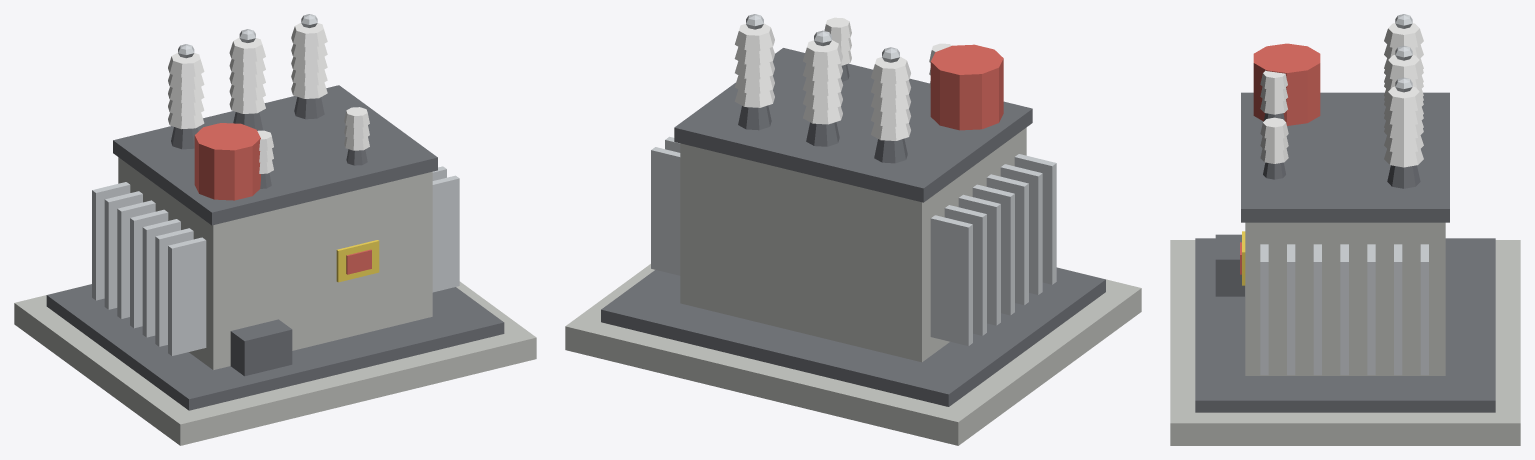
The model's file is wind-and-solar-energy-farm-substation-transformer-4850c534__34073.glb.
3 renders of one model, left to right at view 1: azimuth 30°, elevation 25°; view 2: azimuth 150°, elevation 25°; view 3: azimuth 270°, elevation 25°, orthographic. The views are drawn at different scales.
Visible parts, largest first — view 1: substation-transformer; view 2: substation-transformer; view 3: substation-transformer.
Part boxes in pixels (x1,y1,x2,y2): substation-transformer: (14,14,536,445); substation-transformer: (565,14,1141,445); substation-transformer: (1170,14,1520,445).
Bounding box in the file's own units: 5.2 × 4.06 × 4.2.
